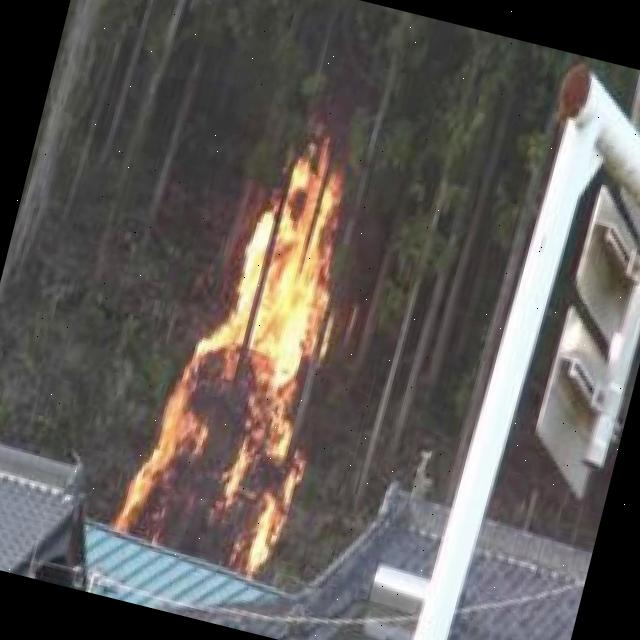fire: (110, 123, 374, 584)
